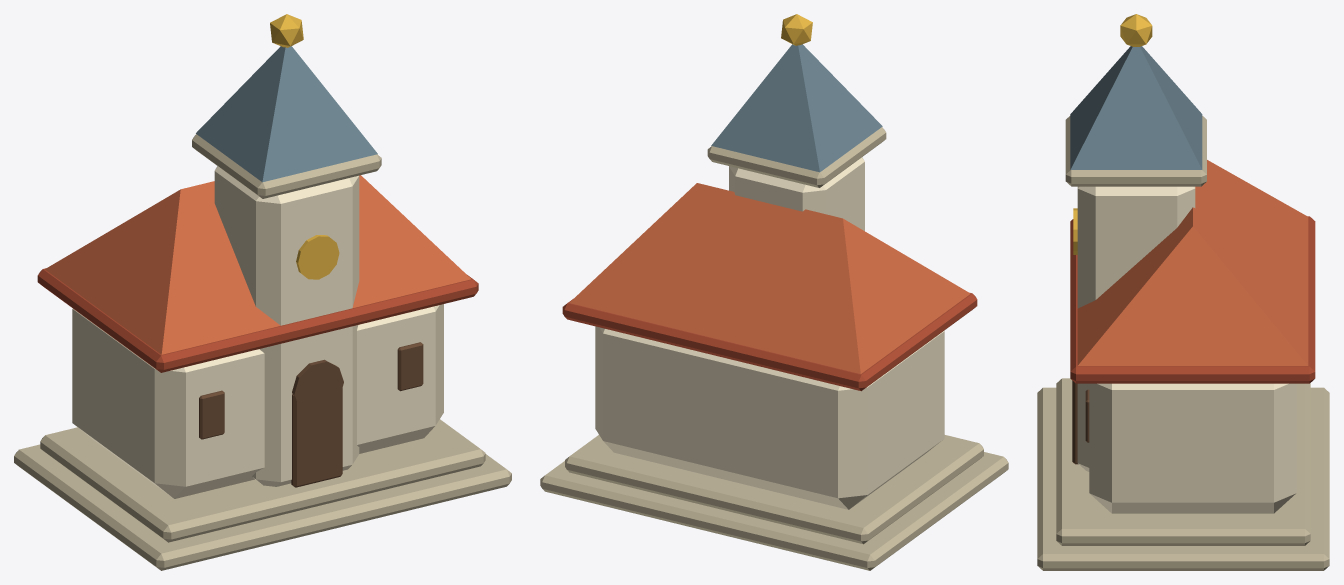
Rendered from ns-hall.glb.
3 views of the same model, side by side, from view 1: azimuth 30°, elevation 25°; view 2: azimuth 150°, elevation 25°; view 3: azimuth 270°, elevation 25° (orthographic). The views are drawn at different scales.
Visible parts, largest first — view 1: Cube; view 2: Cube; view 3: Cube.
Boxes of the visible parts, x1,y1,x2,y2 form: Cube: (14, 14, 511, 570); Cube: (540, 14, 1008, 570); Cube: (1037, 14, 1329, 570).
Bounding box in the file's own units: 0.86 × 1.11 × 0.62.
